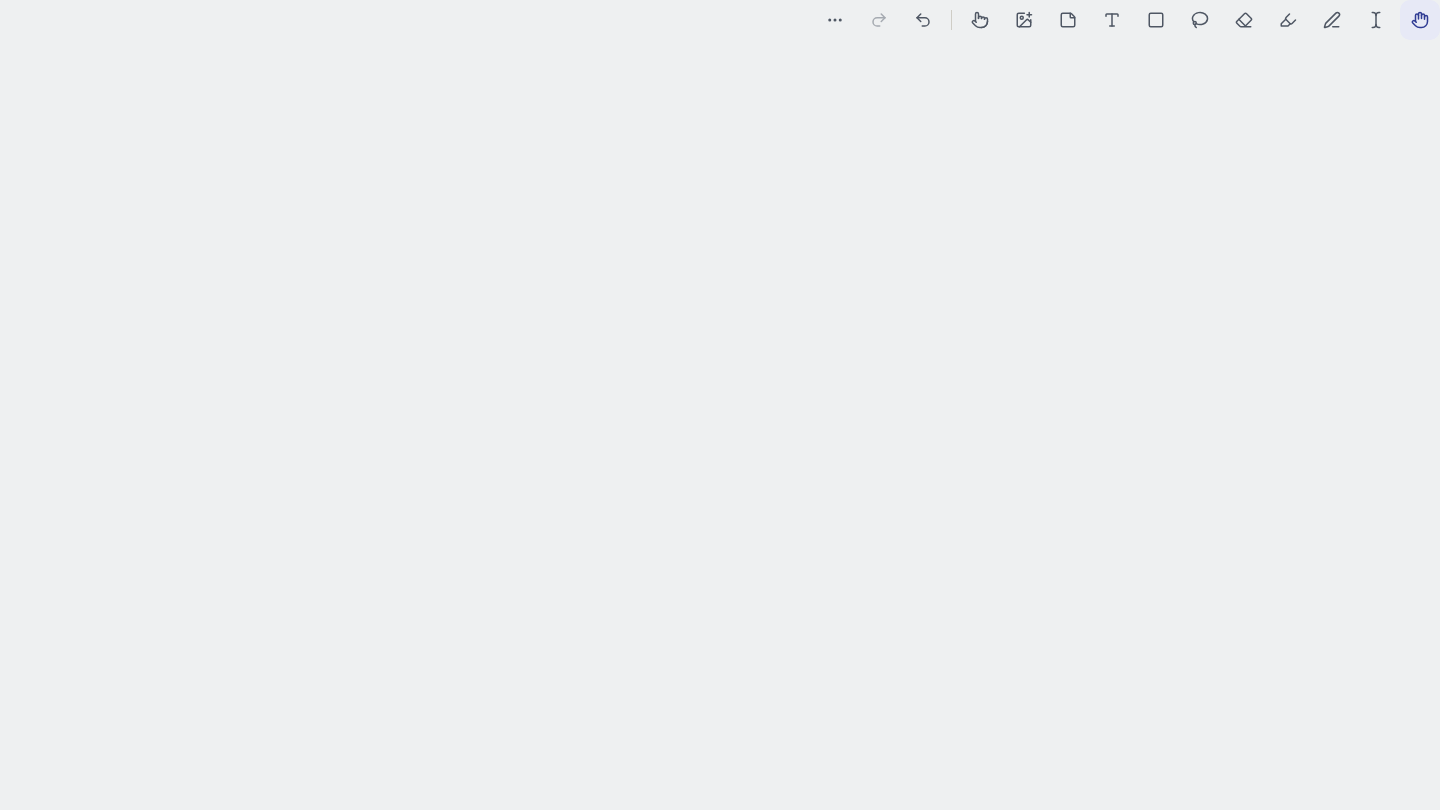
Test: H3 item 1 — undo after a reload, honest about writing erased elsewhere › «تراجع» is enabled again after a reload; a step that would bring back erased writing asks first, «تخطَّ» keeps it erased
The width and height of the screenshot is (1440, 810).
Click the button named "تراجع". click: {"x": 923, "y": 20}
box: [903, 0, 943, 40]
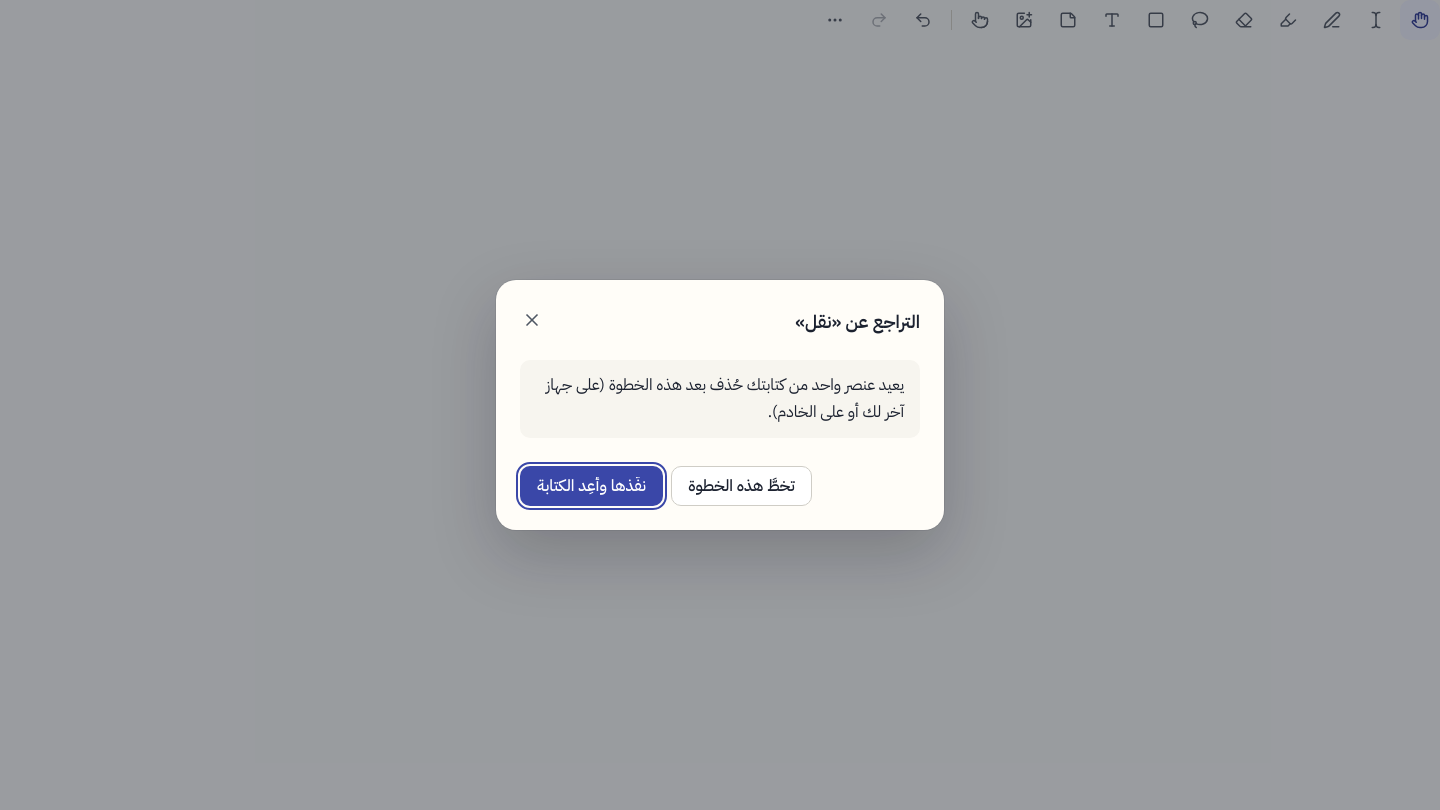
Expected: the dialog "التراجع عن «نقل»" shows "يعيد عنصر واحد من كتابتك حُذف بعد هذه الخطوة", [546, 373, 904, 424]
Expected: the button "نفّذها وأعِد الكتابة" is shown, [520, 466, 663, 506]
Click the button "تخطَّ هذه الخطوة". click: {"x": 741, "y": 486}
box: [671, 466, 812, 506]
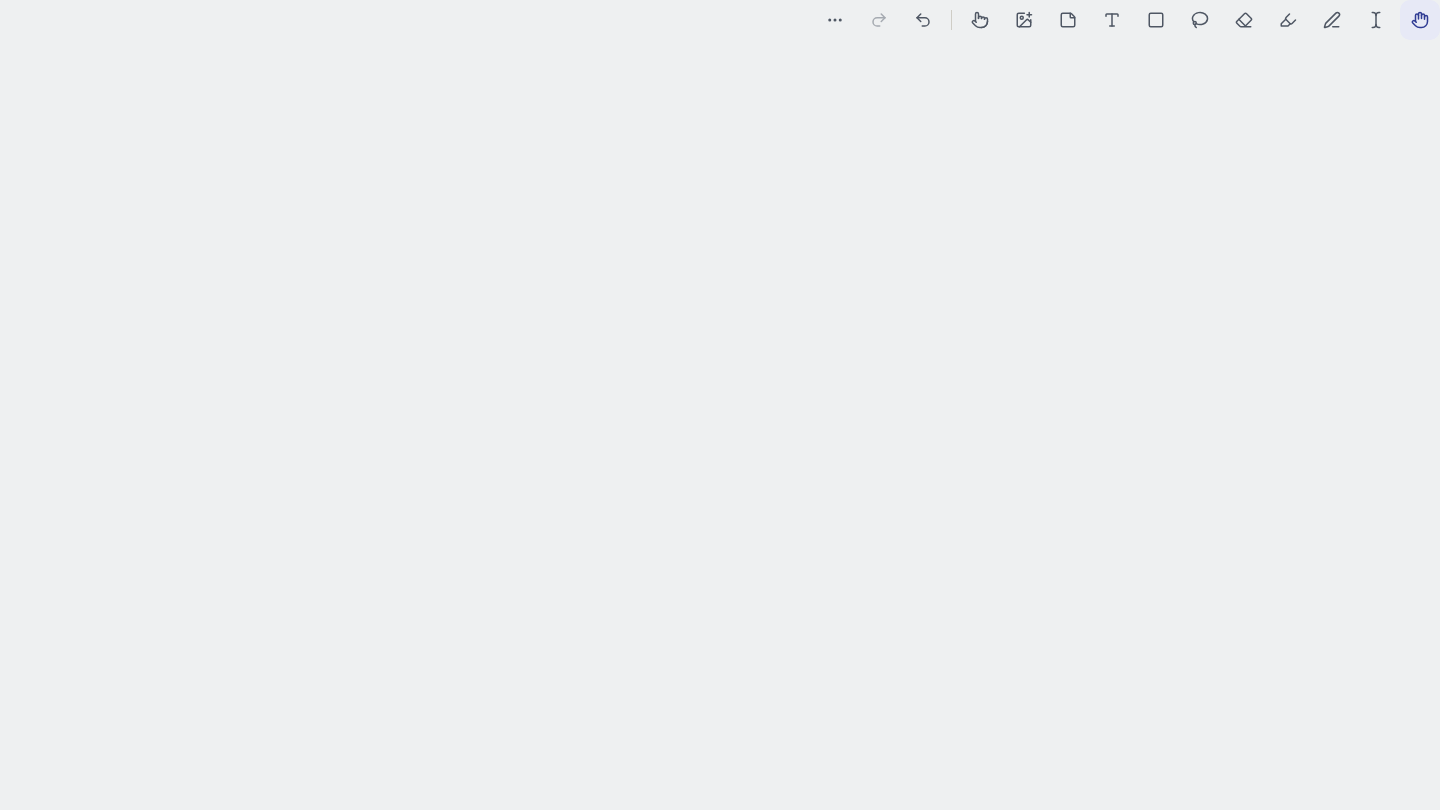
Expected: the dialog is gone
